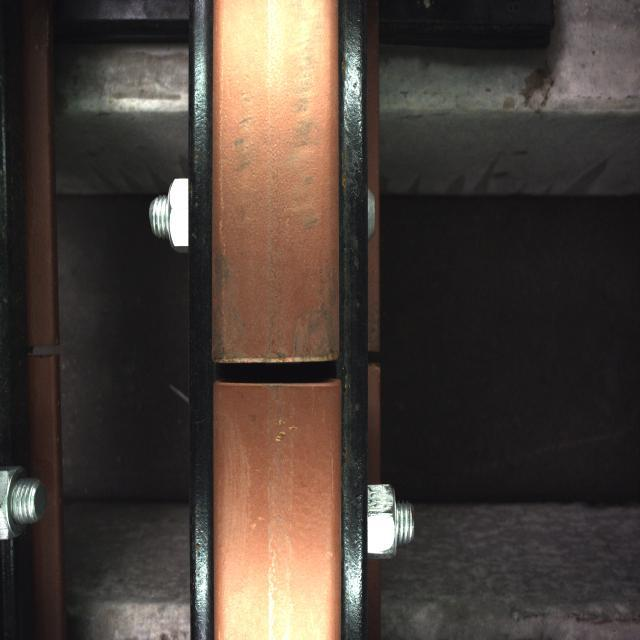spalling: (194, 309, 375, 441)
